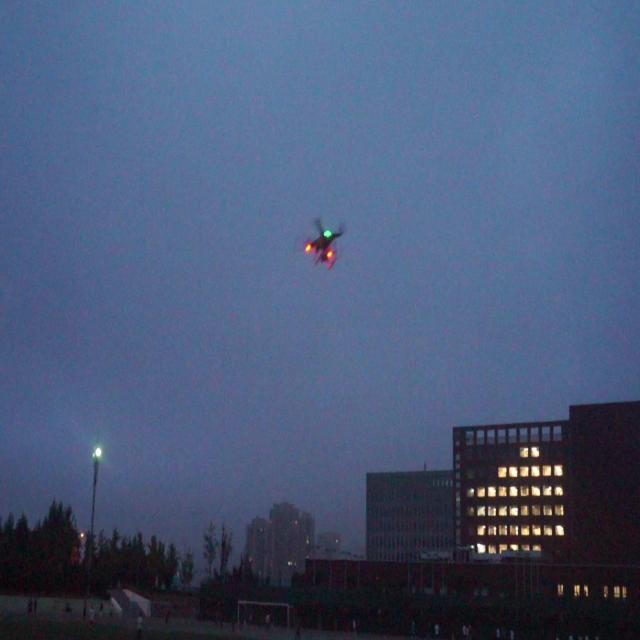drone: (304, 211, 347, 275)
